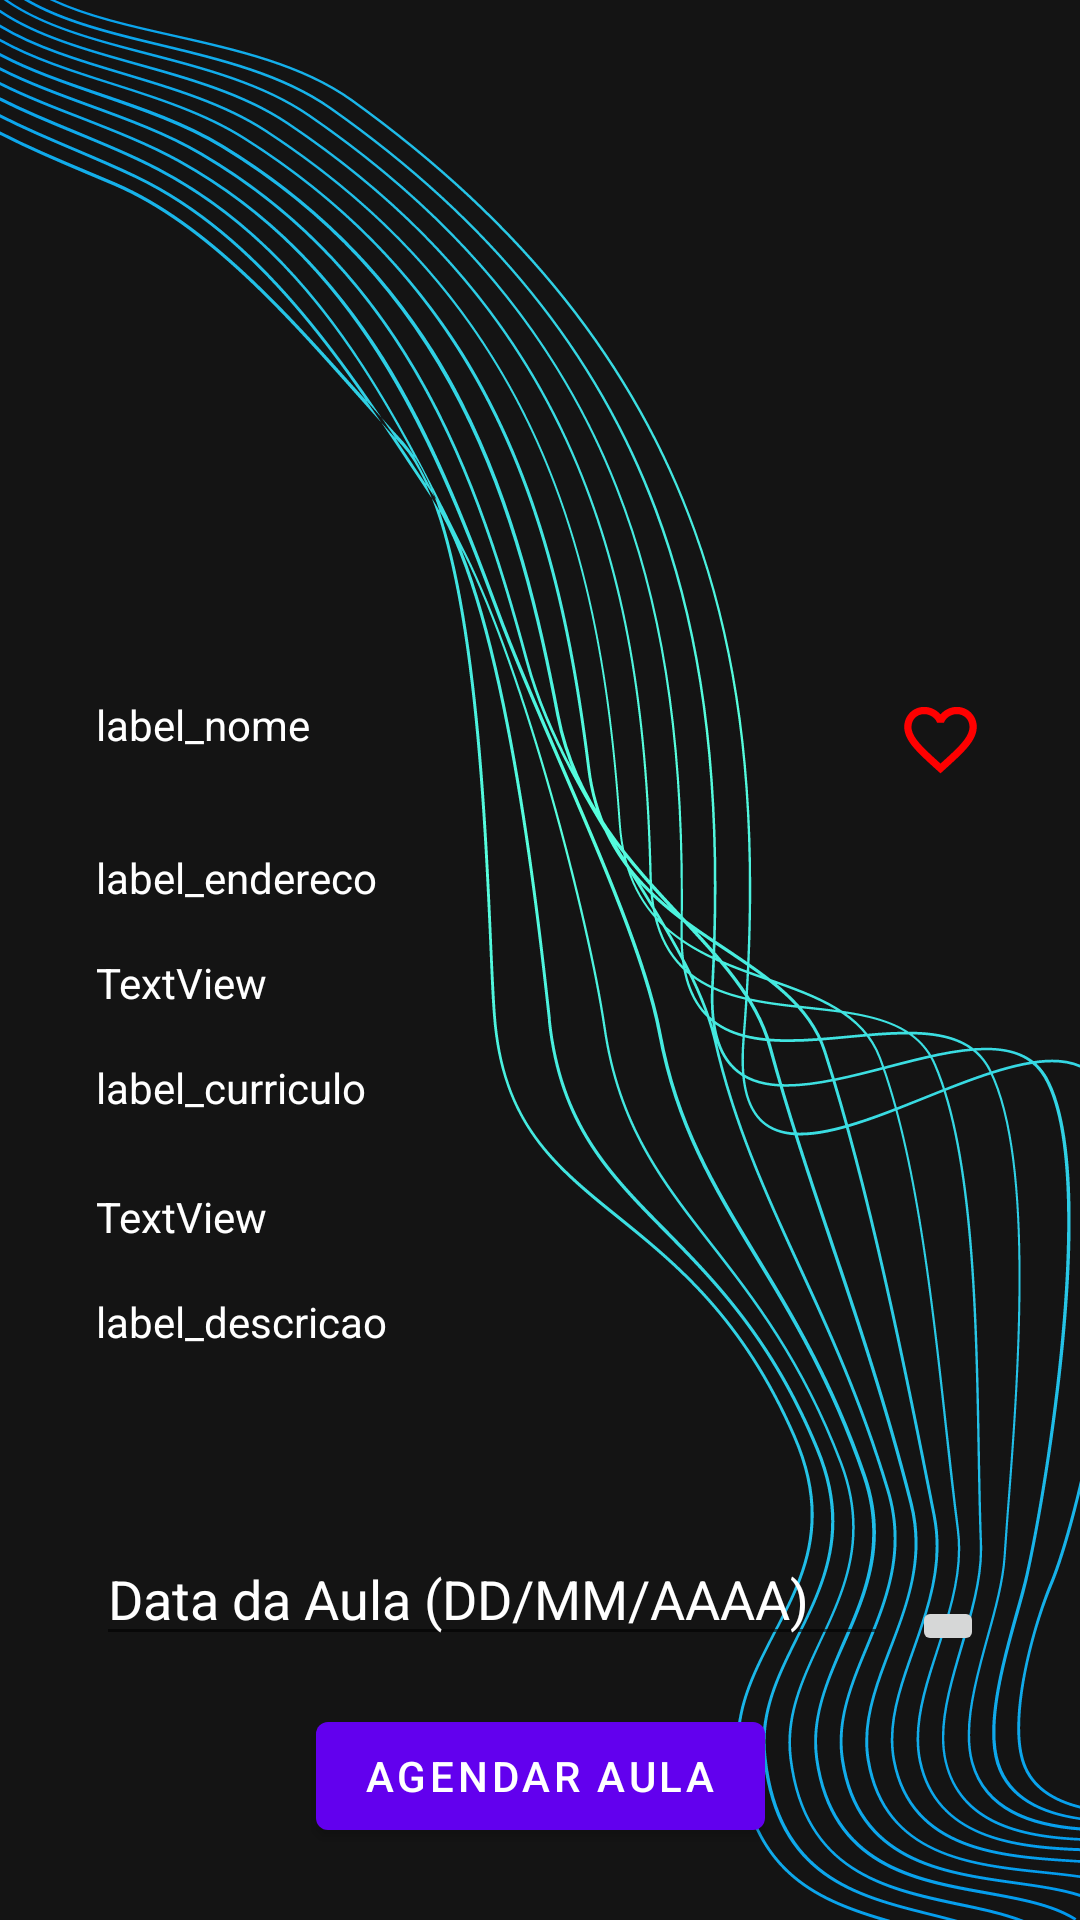

Icon bounding boxes for this 1080px x 1920px phone screenshot, format (x1,y1,x2,y2):
favorite border: (904,707,977,774)
